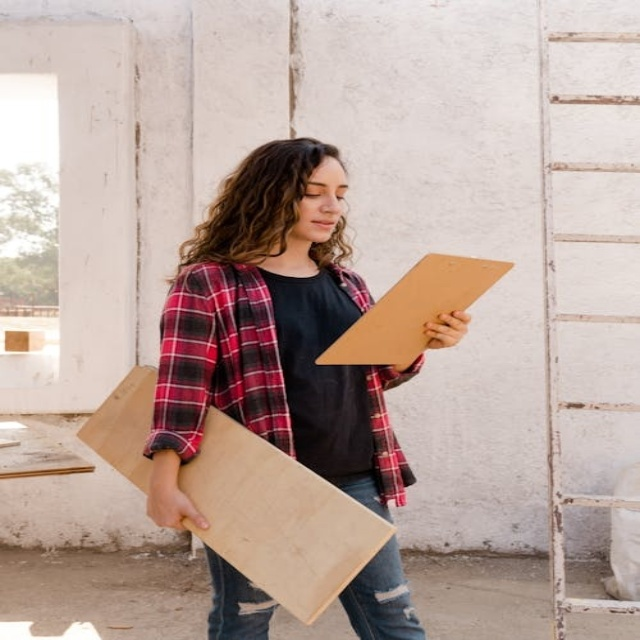Sin_gafas: (301, 182, 352, 202)
Sin_guantes: (140, 474, 215, 541), (415, 301, 484, 352)
Sin_mascara: (303, 215, 340, 233)
